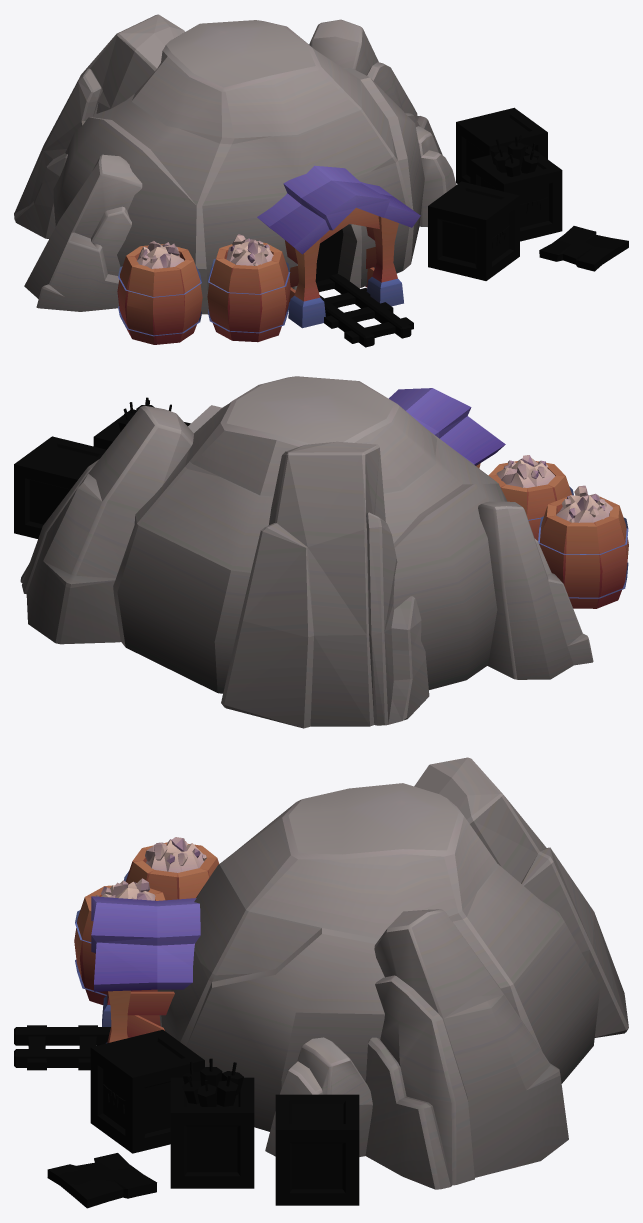
File: mine.glb
3 views of the same model, one above another, from view 1: azimuth 30°, elevation 25°; view 2: azimuth 150°, elevation 25°; view 3: azimuth 270°, elevation 25° (orthographic). The views are drawn at different scales.
Visible parts, largest first — view 1: mine; view 2: mine; view 3: mine.
Part boxes in pixels (<box>): mine: <box>14,14,628,347</box>; mine: <box>14,376,628,728</box>; mine: <box>14,757,628,1208</box>.
Bounding box in the file's own units: 4.91 × 1.87 × 4.22.
Materials: 1 (1 with a texture image).
